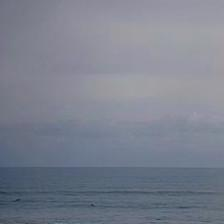surfer: (90, 203, 96, 207), (16, 198, 20, 202)
